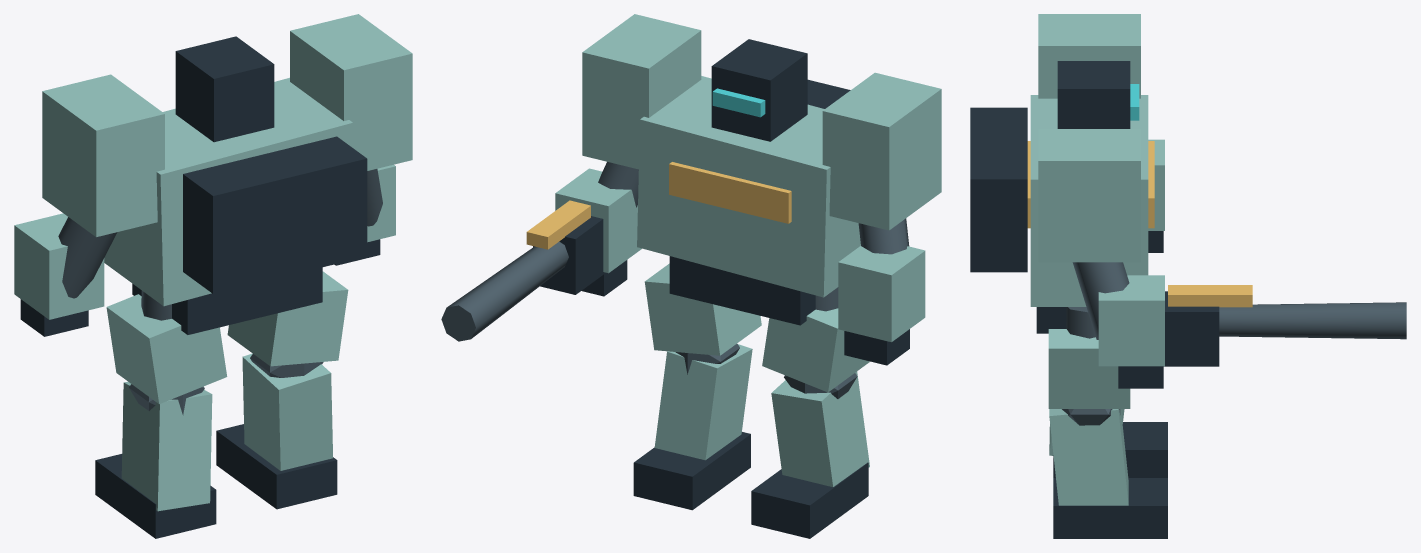
File: unit-heavy.glb
3 renders of one model, left to right at view 1: azimuth 30°, elevation 25°; view 2: azimuth 150°, elevation 25°; view 3: azimuth 270°, elevation 25°, orthographic. The views are drawn at different scales.
Visible parts, largest first — view 1: unit-heavy; view 2: unit-heavy; view 3: unit-heavy.
Boxes of the visible parts, x1,y1,x2,y2 form: unit-heavy: [14, 14, 412, 538]; unit-heavy: [441, 14, 941, 538]; unit-heavy: [970, 14, 1406, 538].
Bounding box in the file's own units: 1.26 × 1.54 × 1.44.
